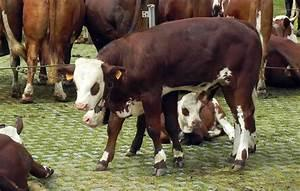cow: (61, 11, 268, 190), (0, 116, 54, 190)
